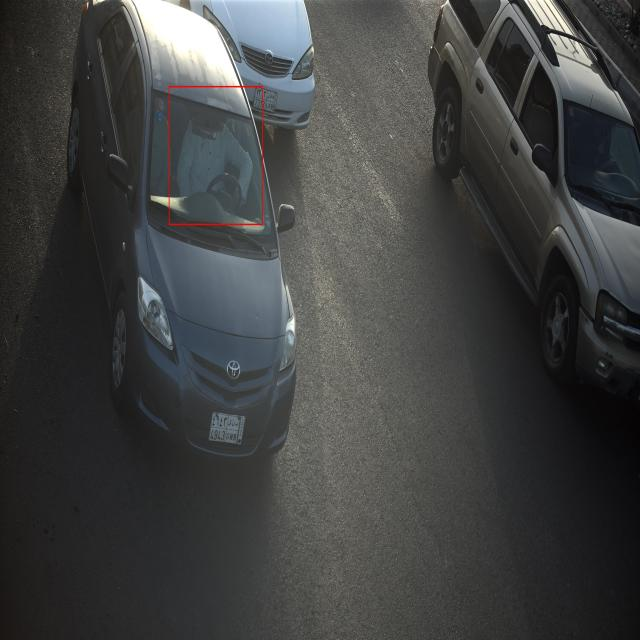windshield: (148, 86, 279, 262)
